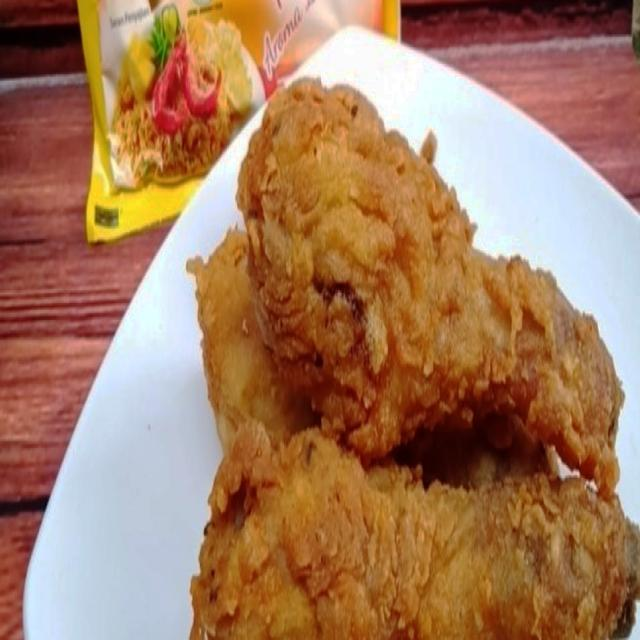fried_chicken: (194, 80, 620, 489), (190, 428, 636, 636)
